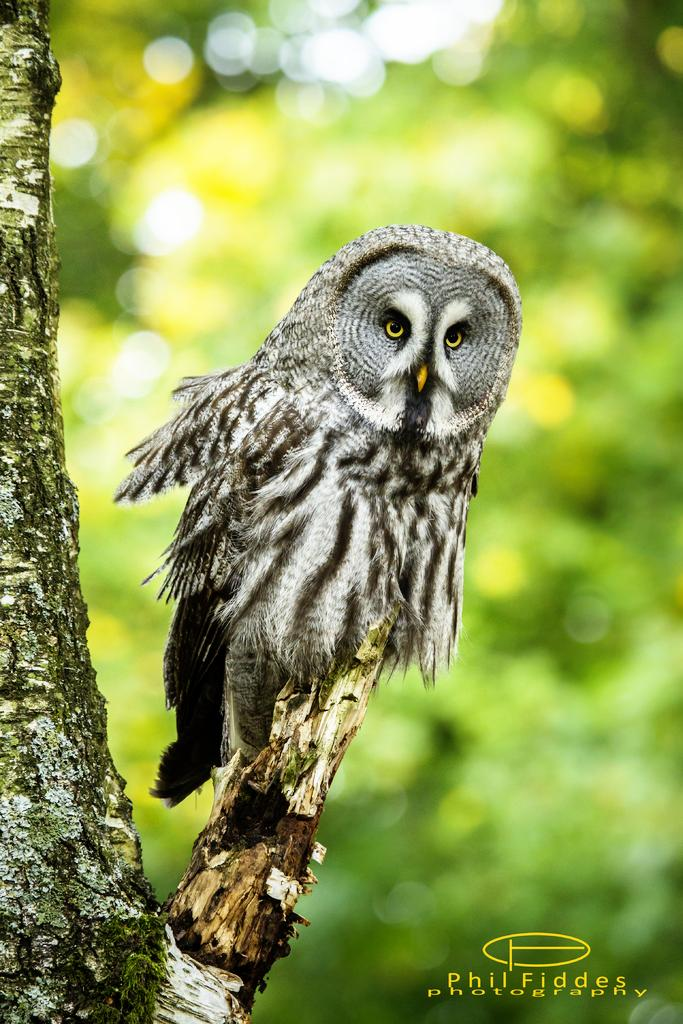Owl: (108, 219, 526, 816)
